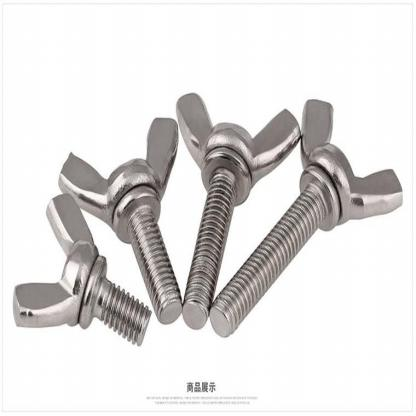FOD: (210, 99, 401, 340), (176, 91, 300, 332), (48, 118, 182, 326), (10, 195, 154, 347)
